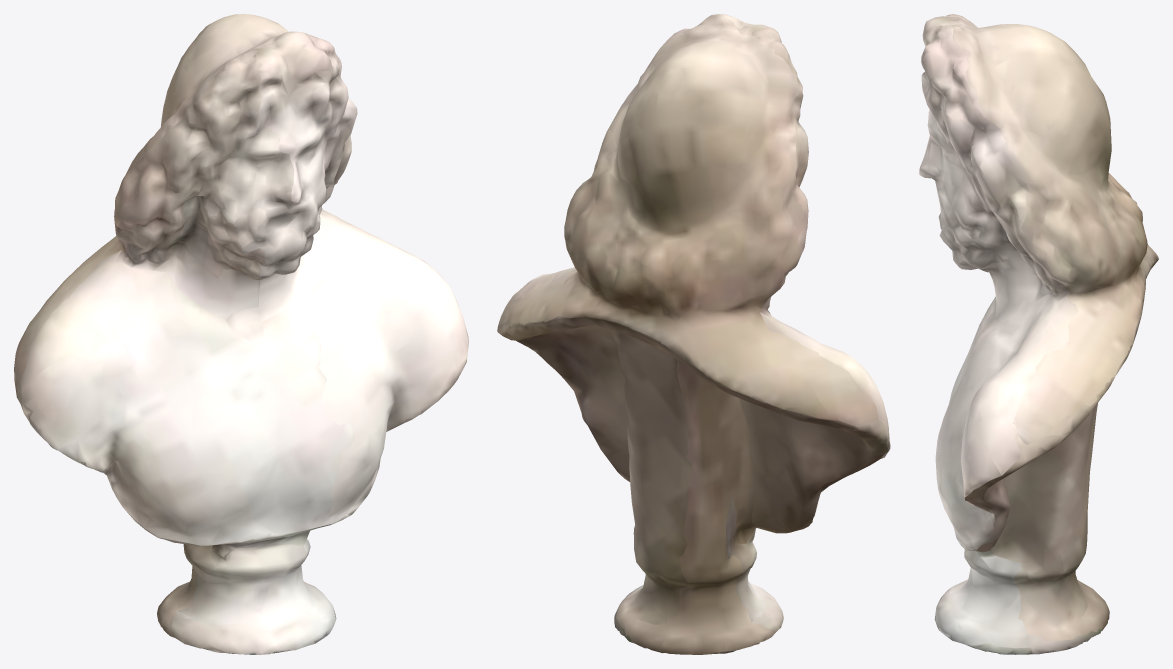
File: bust3.glb
3 renders of one model, left to right at view 1: azimuth 30°, elevation 25°; view 2: azimuth 150°, elevation 25°; view 3: azimuth 270°, elevation 25°, orthographic. The views are drawn at different scales.
Visible parts, largest first — view 1: Object_2; view 2: Object_2; view 3: Object_2.
Boxes of the visible parts, left/top/right/bottom form: Object_2: left=14, top=14, right=468, bottom=654; Object_2: left=497, top=14, right=890, bottom=654; Object_2: left=919, top=14, right=1158, bottom=654.
Size of the model in its own units: 9.94 by 13.86 by 5.03.
2 materials, 2 textured.
